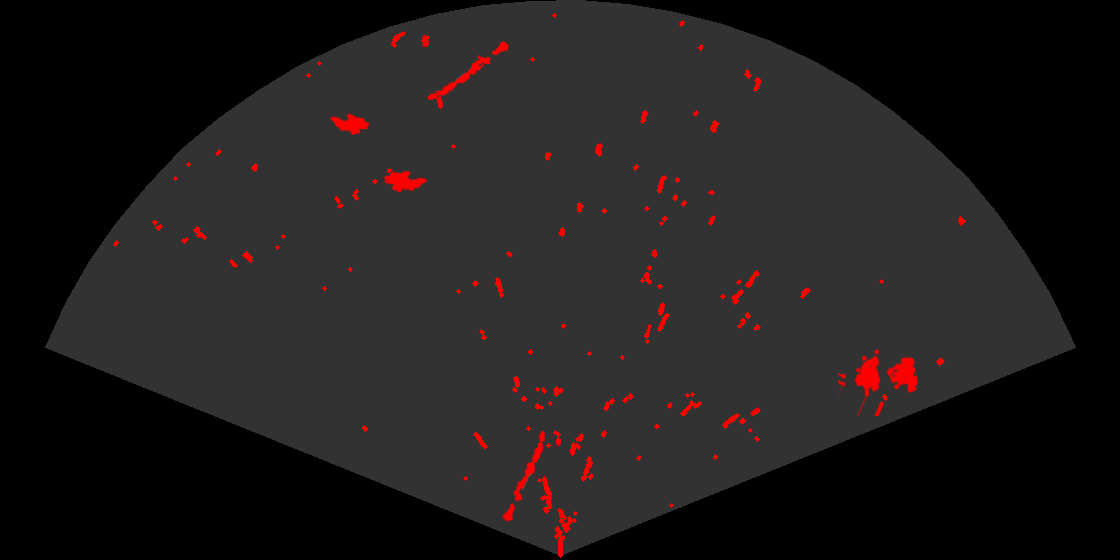AUV: (382, 169, 429, 194), (328, 112, 371, 137)
cage: (838, 347, 920, 416)
chain: (426, 40, 510, 102), (501, 429, 547, 523)
